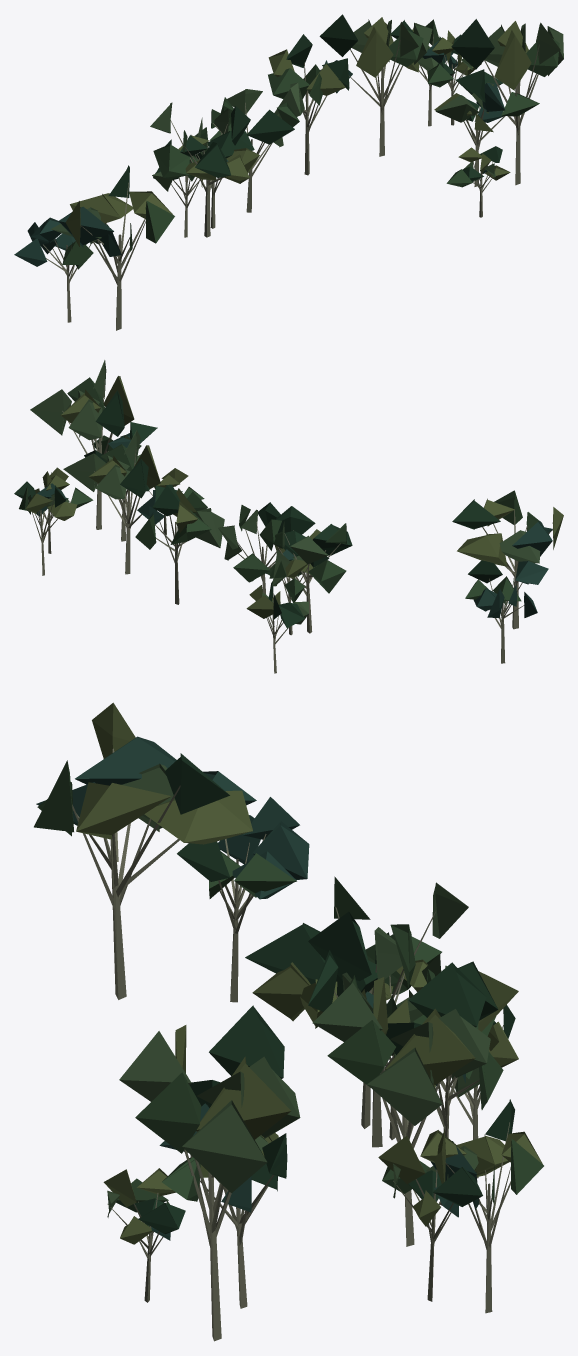
The model's file is forest_23_20.dae.
The picture shows the model from 3 angles, top to bottom: view 1: azimuth 30°, elevation 25°; view 2: azimuth 150°, elevation 25°; view 3: azimuth 270°, elevation 25°; orthographic projection. The views are drawn at different scales.
Parts seen in each view (by area): view 1: Node; view 2: Node; view 3: Node.
Boxes of the visible parts, x1,y1,x2,y2 form: Node: [14, 14, 563, 330]; Node: [14, 360, 563, 673]; Node: [34, 702, 543, 1341].
Bounding box in the file's own units: 11.58 × 5.05 × 4.26.
